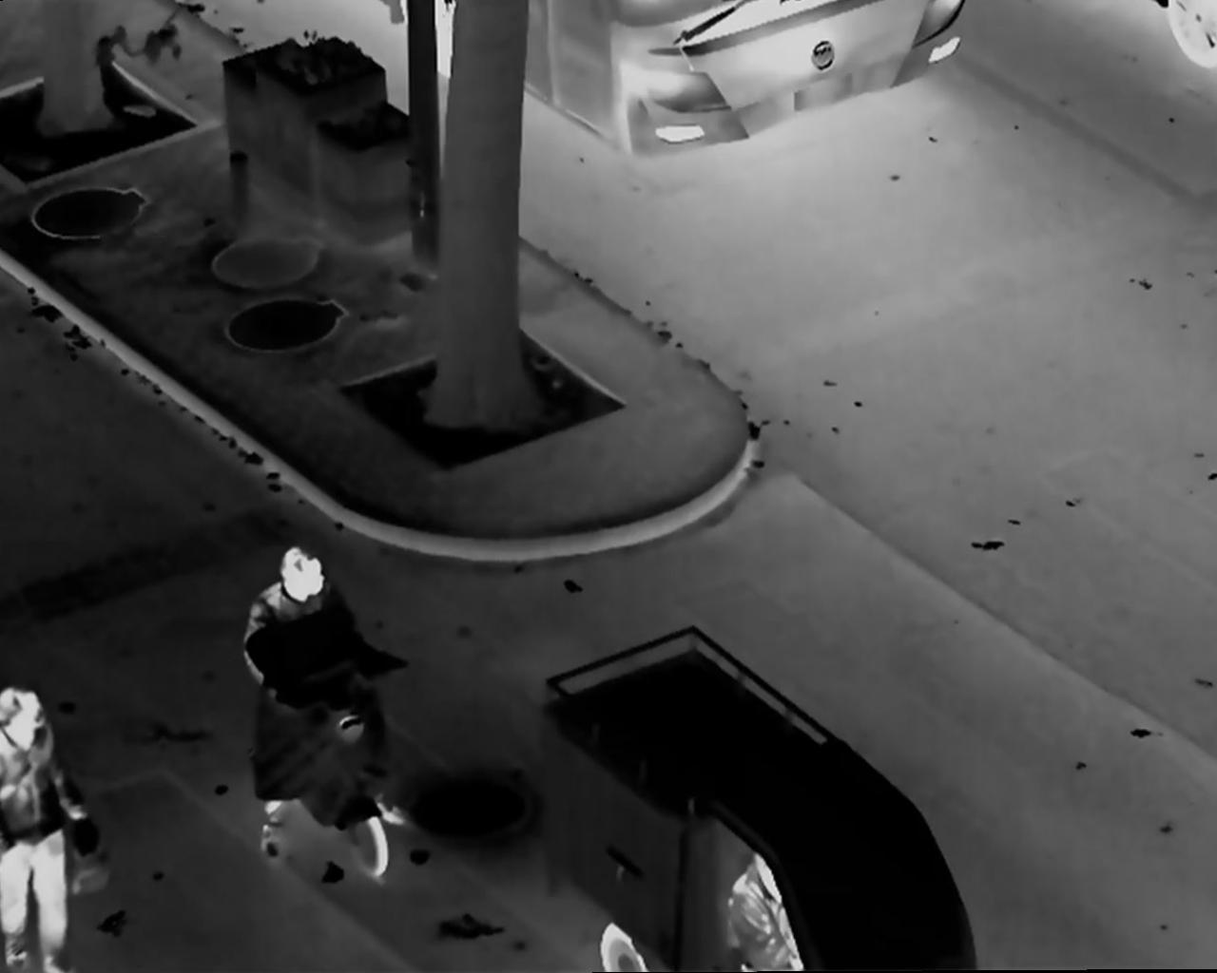person: (242, 544, 414, 870), (725, 844, 803, 973)
